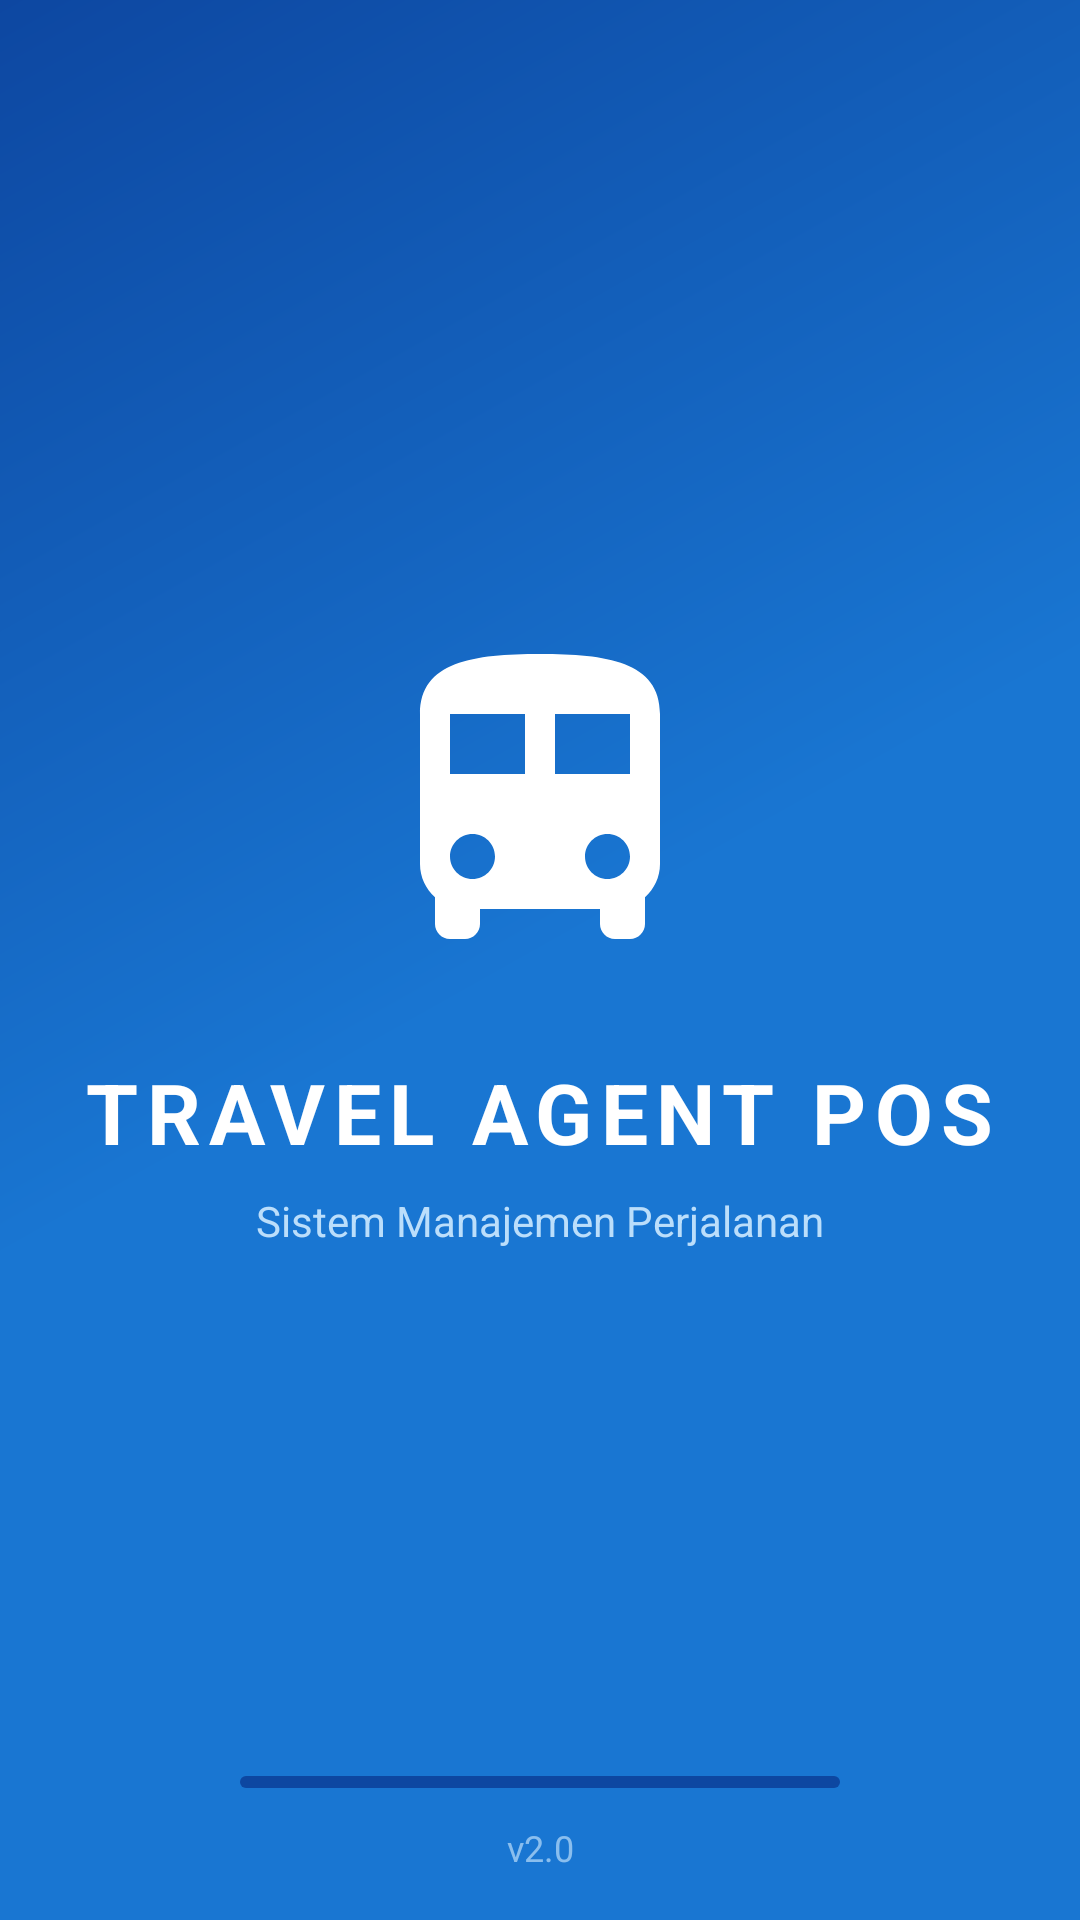

Named icons in this screenshot (1080*1920) and their centers, [x,y]:
bus: [540,796]
